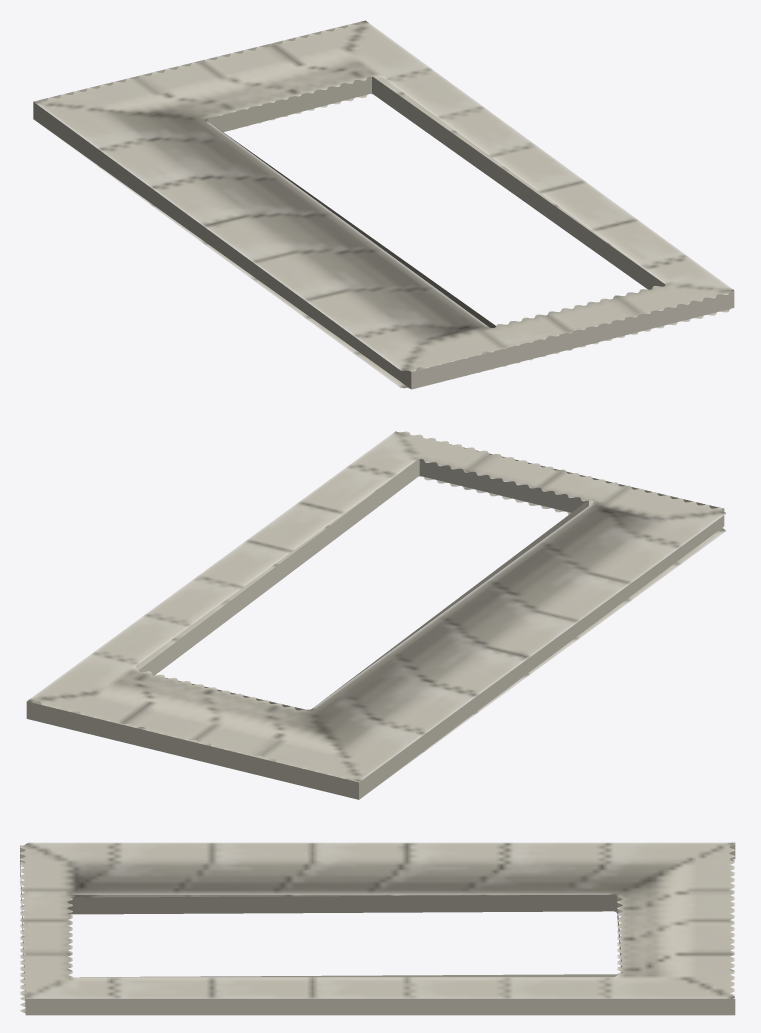
Rendered from pz_native_fixtures_windows_church_113_frame.obj.
The picture shows the model from 3 angles, top to bottom: view 1: azimuth 30°, elevation 25°; view 2: azimuth 150°, elevation 25°; view 3: azimuth 270°, elevation 25°; orthographic projection. The views are drawn at different scales.
Visible parts, largest first — view 1: pz_native_fixtures_windows_church_113_frame; view 2: pz_native_fixtures_windows_church_113_frame; view 3: pz_native_fixtures_windows_church_113_frame.
Part boxes in pixels (x1=…): pz_native_fixtures_windows_church_113_frame: x1=33, y1=20, x2=734, y2=389; pz_native_fixtures_windows_church_113_frame: x1=26, y1=431, x2=725, y2=799; pz_native_fixtures_windows_church_113_frame: x1=20, y1=842, x2=735, y2=1015.
Size of the model in its own units: 0.8438 by 0.04 by 1.58.
Materials: 1 (1 with a texture image).
